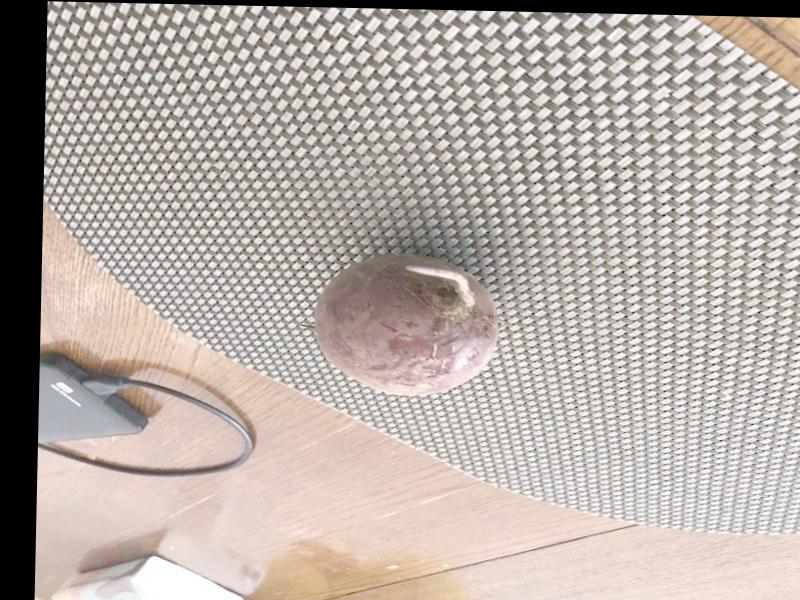Beet: (312, 253, 499, 396)
